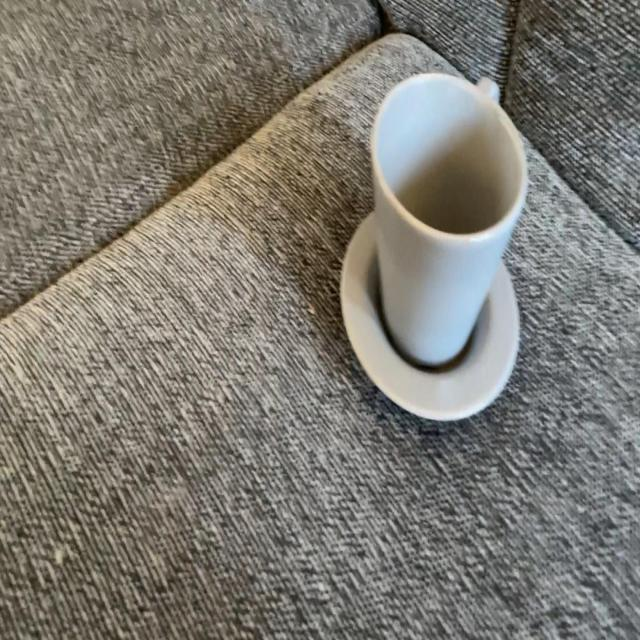cup: (360, 74, 530, 372)
